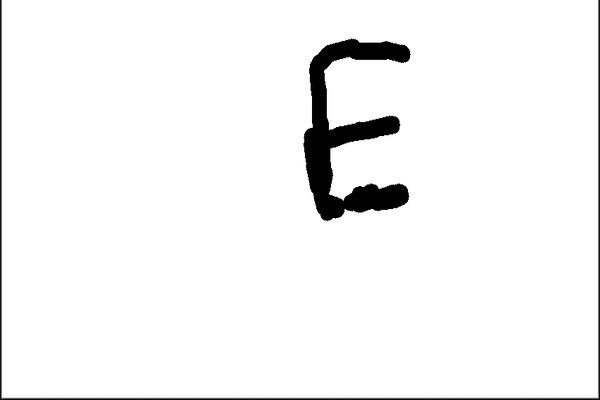E: (297, 34, 423, 220)
